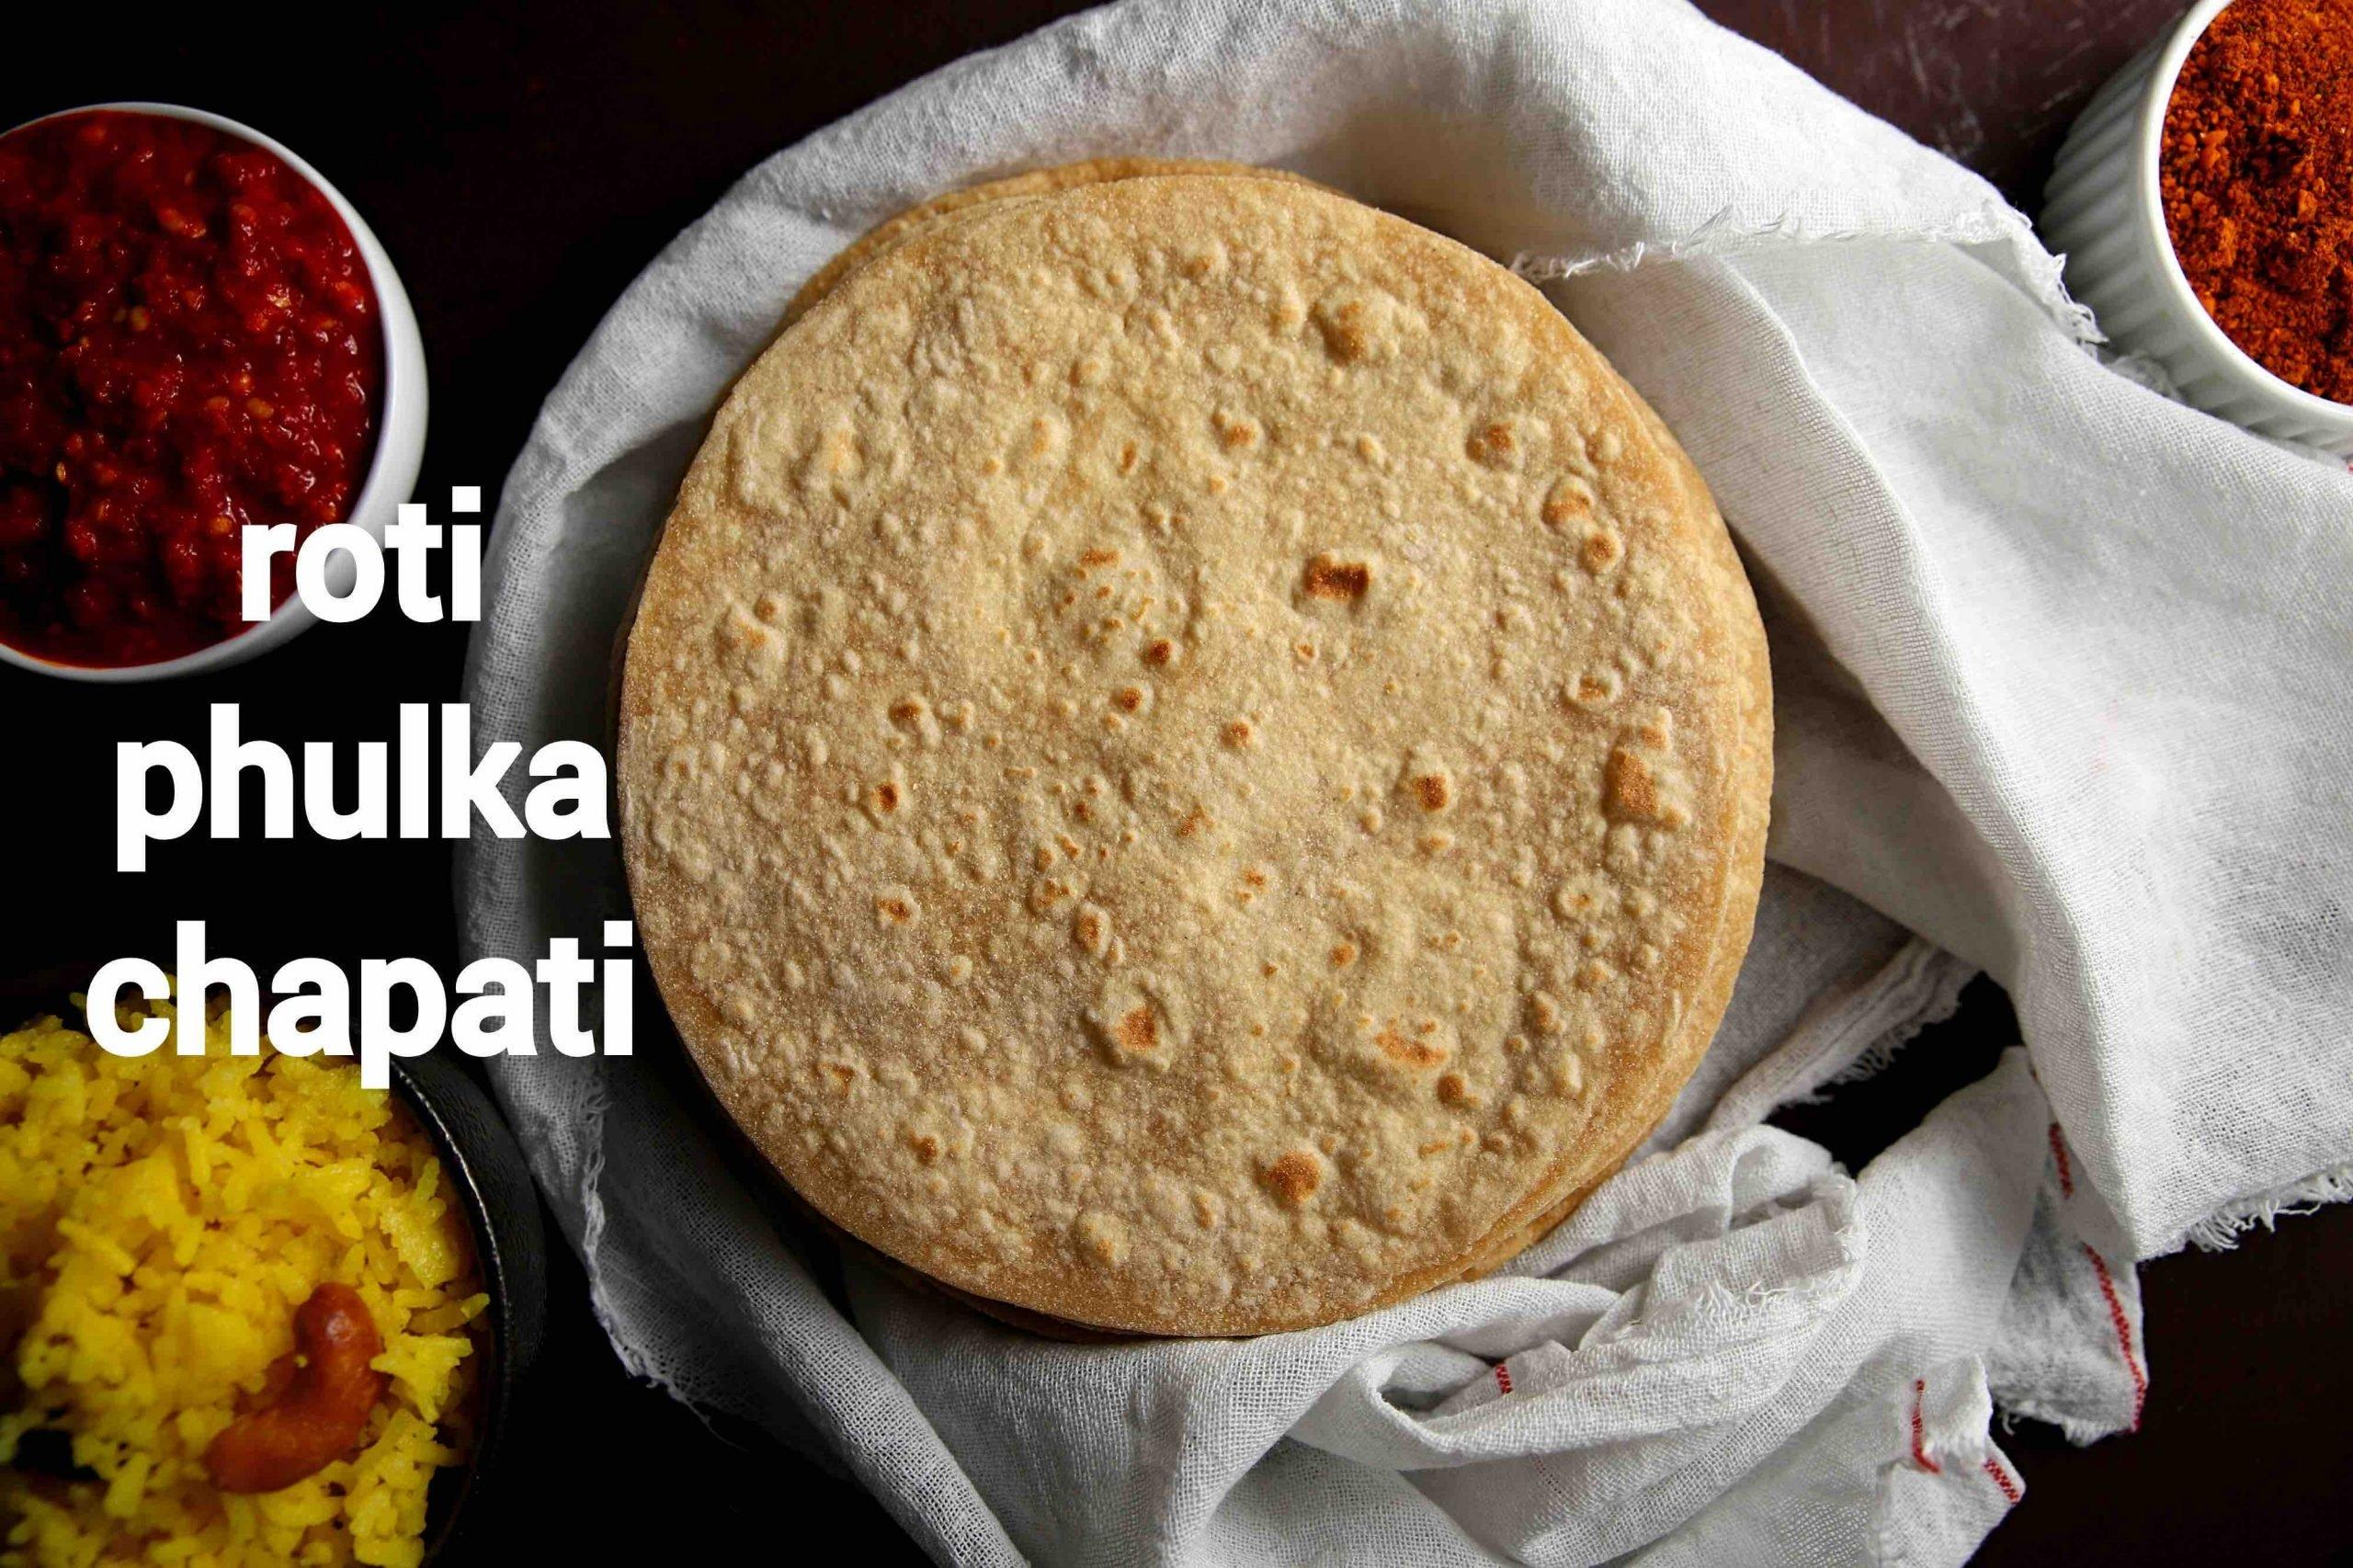chapati: (621, 161, 1774, 1333)
